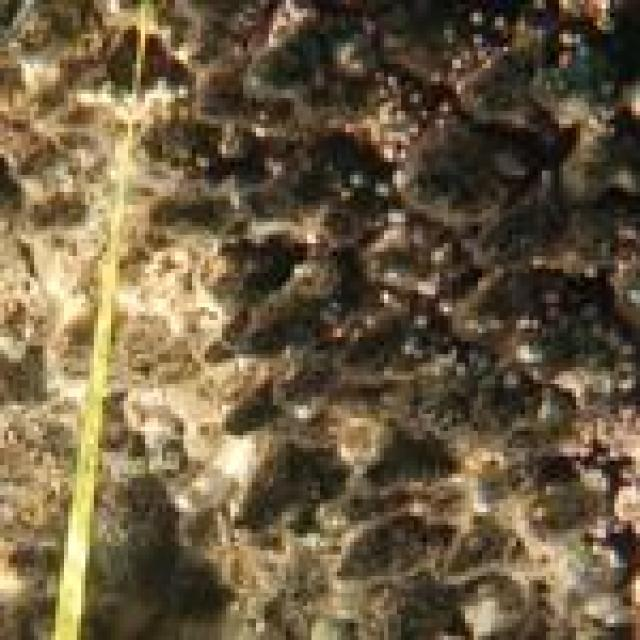Dead Coral: (224, 0, 640, 501)
